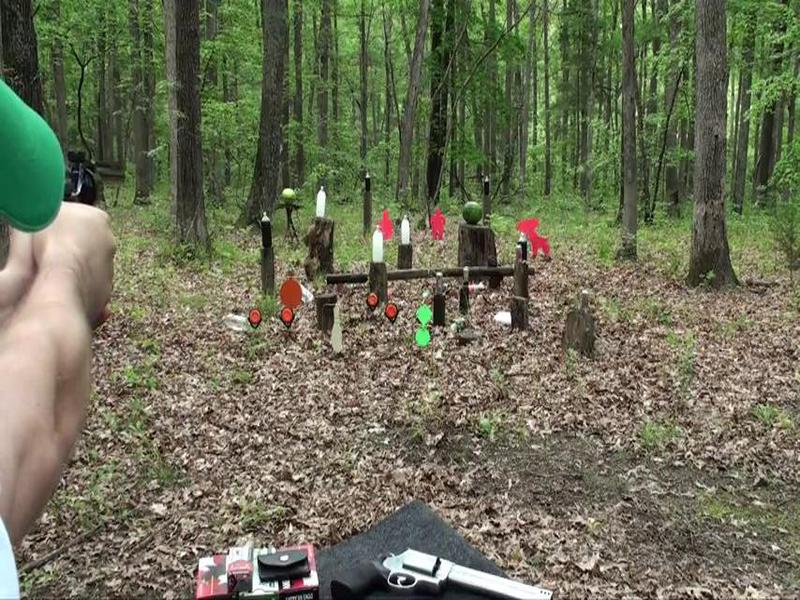Revolver: (47, 141, 130, 227)
